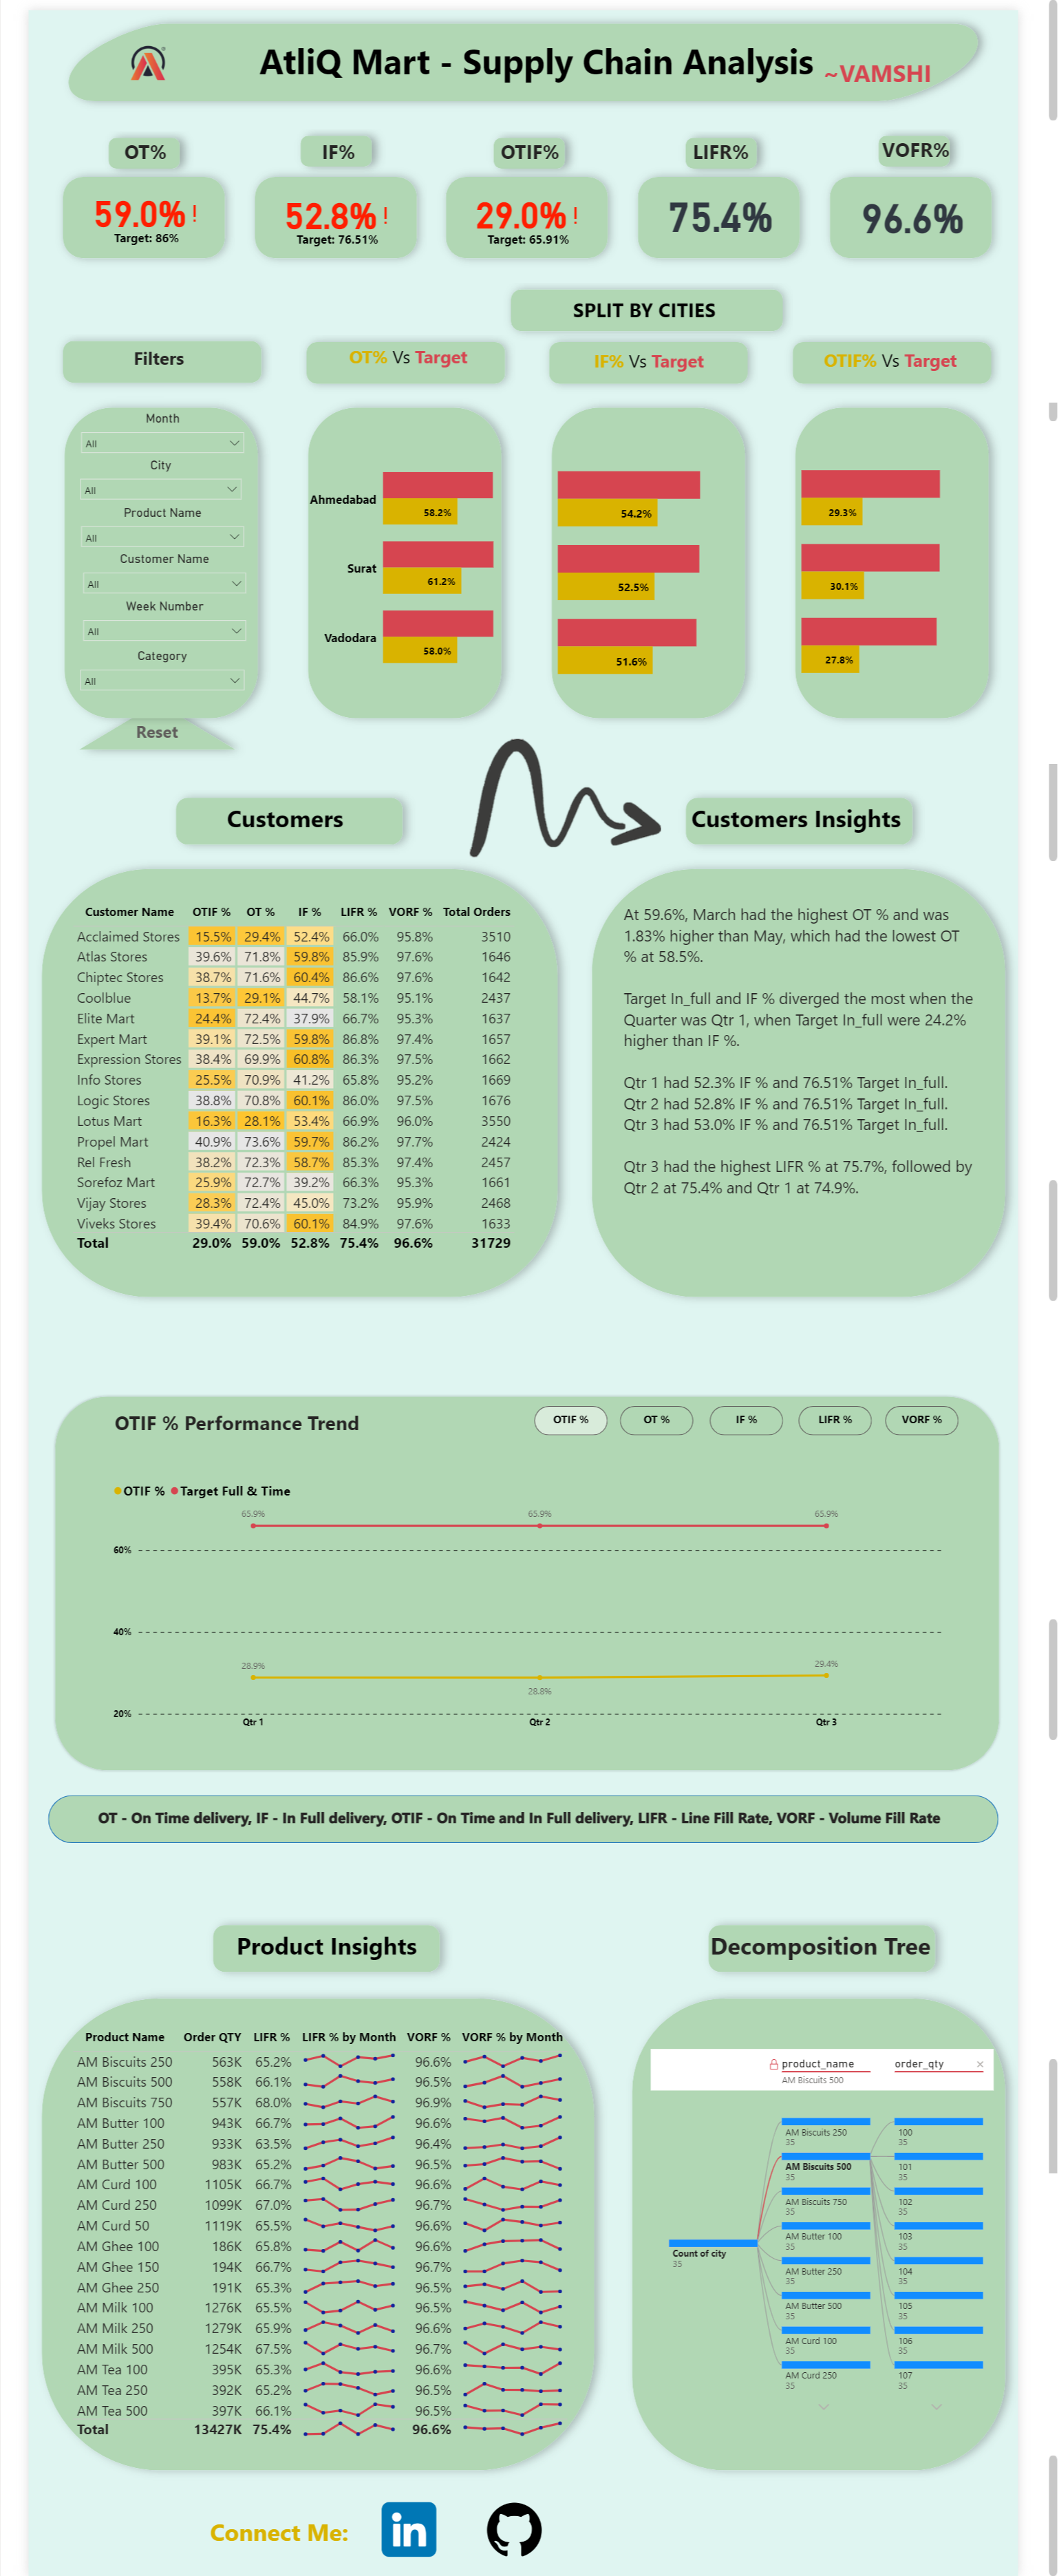

The page's visual inventory and layout, read from the dashboard file:
{"tool":"powerbi","page":{"name":"Supply Chain Dashboard","canvas":[1350,3500],"ordinal":0},"visuals":[{"type":"shape","box":[0,0,1350,141.7],"z":0,"group":"g3"},{"type":"group","id":"g1","title":"Nameshape","box":[90,151.7,1185,300.3],"z":0},{"type":"shape","box":[1140,152.3,135,80],"z":0,"group":"g1"},{"type":"shape","box":[364,438,300,86],"z":0,"group":"g2"},{"type":"textbox","box":[413.7,450.7,208.3,60],"z":0,"group":"g7"},{"type":"shape","box":[1028.4,524.5,300,460],"z":0,"group":"g5"},{"type":"slicer","title":"Month","fields":{"Values":["dim_date.date.Variation.Date Hierarchy.Month"]},"box":[62,546,242,64],"z":0,"group":"g8"},{"type":"clusteredBarChart","fields":{"Category":["dim_customers.city"],"Y":["Resource_measures.Target Full & Time","Resource_measures.OTIF %"]},"box":[1050,614,250,300],"z":0,"group":"g9"},{"type":"actionButton","box":[690,1903.3,100,40],"z":0,"group":"g4"},{"type":"lineChart","title":"OTIF % chart","fields":{"Y":["Resource_measures.OTIF %","Resource_measures.Target Full & Time"],"Category":["dim_date.mmm_yy.Variation.Date Hierarchy.Quarter","dim_date.mmm_yy.Variation.Date Hierarchy.Month"]},"box":[110,1996.7,1140,356.7],"z":0,"group":"g6"},{"type":"shape","box":[615,153.9,135,80],"z":1000,"group":"g1"},{"type":"group","id":"g2","title":"box","box":[32,436,1296,590],"z":1000},{"type":"shape","box":[696,438,300,86],"z":1000,"group":"g2"},{"type":"textbox","box":[760,456,172,50],"z":1000,"group":"g7"},{"type":"shape","box":[696.1,524.4,300,460],"z":1000,"group":"g5"},{"type":"slicer","title":"City","fields":{"Values":["dim_customers.city"]},"box":[60,610,240,64],"z":1000,"group":"g8"},{"type":"clusteredBarChart","fields":{"Category":["dim_customers.city"],"Y":["Resource_measures.Target In_full","Resource_measures.IF %"]},"box":[717.7,615,250,300],"z":1000,"group":"g9"},{"type":"shape","box":[32,1888,1296,518],"z":1000,"group":"g3"},{"type":"textbox","title":"OTIF Title","box":[112.5,1902.5,540,60],"z":1000,"group":"g6"},{"type":"actionButton","box":[806.7,1903.3,100,40],"z":1000,"group":"g4"},{"type":"group","id":"g3","title":"Group 3","box":[0,0,1350,2500],"z":2000},{"type":"shape","box":[293.8,212.5,250,140],"z":2000,"group":"g3"},{"type":"shape","box":[644,366,400,86],"z":2000,"group":"g1"},{"type":"textbox","box":[738,384,240,50],"z":2000,"group":"g7"},{"type":"shape","box":[1028,438,300,86],"z":2000,"group":"g2"},{"type":"shape","box":[363.9,524.3,300,460],"z":2000,"group":"g5"},{"type":"clusteredBarChart","fields":{"Category":["dim_customers.city"],"Y":["Resource_measures.Target On_time","Resource_measures.OT %"]},"box":[378,578.3,295,358.3],"z":2000,"group":"g9"},{"type":"slicer","title":"Product Name","fields":{"Values":["dim_products.product_name"]},"box":[62,674,242,64],"z":2000,"group":"g8"},{"type":"group","id":"g4","title":"OTIF Buttons","box":[690,1903.3,578.3,40],"z":2000,"group":"g6"},{"type":"actionButton","box":[930,1903.3,100,40],"z":2000,"group":"g4"},{"type":"shape","box":[352.5,151.7,135,80],"z":3000,"group":"g1"},{"type":"shape","box":[555.3,212.5,250,140],"z":3000,"group":"g3"},{"type":"shape","box":[32,436,300,86],"z":3000,"group":"g2"},{"type":"textbox","box":[1080,454,204,52],"z":3000,"group":"g7"},{"type":"group","id":"g5","title":"boxplotshapes","box":[31.7,524.3,1296.7,460.3],"z":3000},{"type":"shape","box":[31.7,524.6,300,460],"z":3000,"group":"g5"},{"type":"slicer","title":"Customer Name","fields":{"Values":["dim_customers.customer_name"]},"box":[64,738,242,64],"z":3000,"group":"g8"},{"type":"actionButton","box":[1168.3,1903.3,100,40],"z":3000,"group":"g4"},{"type":"shape","box":[90,155,135,80],"z":4000,"group":"g1"},{"type":"shape","box":[816.8,212.5,250,140],"z":4000,"group":"g3"},{"type":"textbox","box":[112,452,130,54],"z":4000,"group":"g7"},{"type":"slicer","title":"Week Number","fields":{"Values":["dim_date.week_no"]},"box":[64,802,242,66],"z":4000,"group":"g8"},{"type":"shape","box":[50,926,250,100],"z":4000,"group":"g2"},{"type":"actionButton","box":[1050,1903.3,100,40],"z":4000,"group":"g4"},{"type":"shape","box":[877.5,153.9,135,80],"z":5000,"group":"g1"},{"type":"shape","box":[1078.3,212.5,250,140],"z":5000,"group":"g3"},{"type":"slicer","title":"Category","fields":{"Values":["dim_products.category"]},"box":[60,870,244,66],"z":5000,"group":"g8"},{"type":"group","id":"g6","title":"OTIF% chart","box":[110,1902.5,1158.3,450.8],"z":5000},{"type":"shape","box":[32.3,212.5,250,140],"z":6000,"group":"g3"},{"type":"kpi","fields":{"Indicator":["Resource_measures.OT %"],"Goal":["Resource_measures.Target On_time"],"TrendLine":["fact_order_lines.customer_id"]},"box":[55,250.4,215,85],"z":7000,"group":"g3"},{"type":"kpi","fields":{"TrendLine":["fact_order_lines.customer_id"],"Indicator":["Resource_measures.OTIF %"],"Goal":["Resource_measures.Target Full & Time"]},"box":[576.7,250.4,215,88.3],"z":8000,"group":"g3"},{"type":"kpi","fields":{"TrendLine":["fact_order_lines.customer_id"],"Indicator":["Resource_measures.IF %"],"Goal":["Resource_measures.Target In_full"]},"box":[315,250.4,215,90],"z":9000,"group":"g3"},{"type":"group","id":"g7","title":"TextBoxes","box":[112,384,1172,126.7],"z":9000},{"type":"card","fields":{"Values":["Resource_measures.VORF %"]},"box":[1116.7,208.7,178.3,138.3],"z":10000,"group":"g3"},{"type":"group","id":"g8","title":"Filters","box":[60,546,246,390],"z":10000},{"type":"card","fields":{"Values":["Resource_measures.LIFR %"]},"box":[843.3,215.4,200,120],"z":11000,"group":"g3"},{"type":"group","id":"g9","title":"graphs","box":[378,578.3,922,358.3],"z":11000},{"type":"textbox","box":[115,168.3,88.3,55],"z":12000,"group":"g3"},{"type":"actionButton","title":"Reset","box":[126,964,100,40],"z":12000},{"type":"image","box":[118.3,41.7,90,58.3],"z":13000},{"type":"textbox","box":[386.7,168.3,71.7,53.3],"z":13000,"group":"g3"},{"type":"textbox","box":[635,168.3,98.3,53.3],"z":14000,"group":"g3"},{"type":"shape","box":[0,1153.3,740,620],"z":14000},{"type":"textbox","box":[891.7,168.3,106.7,53.3],"z":15000,"group":"g3"},{"type":"tableEx","fields":{"Values":["dim_customers.customer_name","Resource_measures.OTIF %","Resource_measures.OT %","Resource_measures.IF %","Resource_measures.LIFR %","Resource_measures.VORF %","fact_order_lines.order_id"]},"box":[55,1213.3,643.3,523.3],"z":15000},{"type":"textbox","box":[1153.3,166.7,115,48.3],"z":16000,"group":"g3"},{"type":"shape","box":[750,1153.3,600,620],"z":16000},{"type":"textbox","title":"AtliQ Mart - Supply Chain Analysis","box":[228.3,36.7,930,105],"z":17000,"group":"g3"},{"type":"textbox","box":[806.7,1213.3,488.3,501.7],"z":17000},{"type":"shape","box":[878.3,1056.7,345,100],"z":18000},{"type":"shape","box":[26.7,2435,1296.7,65],"z":18000,"group":"g3"},{"type":"textbox","box":[891.7,1075,311.7,61.7],"z":19000},{"type":"textbox","title":"OT - On Time delivery, IF - In Full delivery, OTIF - On Time and In Full delivery, LIFR - Line Fill Rate, VORF - Volume Fill Rate","box":[11.7,2451.7,1316.7,31.7],"z":19000,"group":"g3"},{"type":"shape","box":[183.3,1056.7,345,100],"z":20000},{"type":"textbox","box":[253.3,1075,193.3,58.3],"z":21000},{"type":"shape","box":[0,2695,790,680],"z":22000},{"type":"tableEx","fields":{"Values":["dim_products.product_name","Sum(fact_order_lines.order_qty)","Resource_measures.LIFR %","SparklineData(Resource_measures.LIFR %_[dim_date.date.Variation.Date Hierarchy.Month])","Resource_measures.VORF %","SparklineData(Resource_measures.VORF %_[dim_date.date.Variation.Date Hierarchy.Month])"]},"box":[55,2748.3,700,626.7],"z":23000},{"type":"shape","box":[805,2695,545,680],"z":24000},{"type":"decompositionTreeVisual","fields":{"ExplainBy":["dim_products.product_name","fact_order_lines.order_qty"],"Analyze":["CountNonNull(dim_customers.city)"]},"box":[843.3,2776.7,478,518.3],"z":25000},{"type":"shape","box":[233.3,2595,345,100],"z":26000},{"type":"textbox","box":[278.3,2613.3,270,61.7],"z":27000},{"type":"shape","box":[910,2595,345,100],"z":28000},{"type":"textbox","box":[925,2613.3,343.3,56.7],"z":29000},{"type":"image","box":[555,988.3,355,171.7],"z":30000},{"type":"shape","box":[192.7,3389.1,278.2,100],"z":30500},{"type":"textbox","box":[241.8,3412.7,245.5,67.3],"z":31000},{"type":"image","box":[514.5,3394.5,118.2,85.5],"z":32000},{"type":"image","box":[593.3,3395,140,85],"z":33000},{"type":"textbox","box":[1078.3,58.3,250,61.7],"z":34000}]}

Visuals, with their boxes on the page's 1350x3500 design canvas (x1, y1, x2, y2). These are canvas units, not pixel positions in the 1059x2576 screenshot, which may show the page scaled, cropped or inside an application window:
shape: <bbox>0, 0, 1350, 142</bbox>
"Nameshape" group: <bbox>90, 152, 1275, 452</bbox>
shape: <bbox>1140, 152, 1275, 232</bbox>
shape: <bbox>364, 438, 664, 524</bbox>
textbox: <bbox>414, 451, 622, 511</bbox>
shape: <bbox>1028, 524, 1328, 984</bbox>
"Month" slicer: <bbox>62, 546, 304, 610</bbox>
clusteredBarChart - dim_customers.city x Resource_measures.Target Full & Time: <bbox>1050, 614, 1300, 914</bbox>
actionButton: <bbox>690, 1903, 790, 1943</bbox>
"OTIF % chart" lineChart: <bbox>110, 1997, 1250, 2353</bbox>
shape: <bbox>615, 154, 750, 234</bbox>
"box" group: <bbox>32, 436, 1328, 1026</bbox>
shape: <bbox>696, 438, 996, 524</bbox>
textbox: <bbox>760, 456, 932, 506</bbox>
shape: <bbox>696, 524, 996, 984</bbox>
"City" slicer: <bbox>60, 610, 300, 674</bbox>
clusteredBarChart - dim_customers.city x Resource_measures.Target In_full: <bbox>718, 615, 968, 915</bbox>
shape: <bbox>32, 1888, 1328, 2406</bbox>
"OTIF Title" textbox: <bbox>112, 1902, 652, 1962</bbox>
actionButton: <bbox>807, 1903, 907, 1943</bbox>
"Group 3" group: <bbox>0, 0, 1350, 2500</bbox>
shape: <bbox>294, 212, 544, 352</bbox>
shape: <bbox>644, 366, 1044, 452</bbox>
textbox: <bbox>738, 384, 978, 434</bbox>
shape: <bbox>1028, 438, 1328, 524</bbox>
shape: <bbox>364, 524, 664, 984</bbox>
clusteredBarChart - dim_customers.city x Resource_measures.Target On_time: <bbox>378, 578, 673, 937</bbox>
"Product Name" slicer: <bbox>62, 674, 304, 738</bbox>
"OTIF Buttons" group: <bbox>690, 1903, 1268, 1943</bbox>
actionButton: <bbox>930, 1903, 1030, 1943</bbox>
shape: <bbox>352, 152, 488, 232</bbox>
shape: <bbox>555, 212, 805, 352</bbox>
shape: <bbox>32, 436, 332, 522</bbox>
textbox: <bbox>1080, 454, 1284, 506</bbox>
"boxplotshapes" group: <bbox>32, 524, 1328, 985</bbox>
shape: <bbox>32, 525, 332, 985</bbox>
"Customer Name" slicer: <bbox>64, 738, 306, 802</bbox>
actionButton: <bbox>1168, 1903, 1268, 1943</bbox>
shape: <bbox>90, 155, 225, 235</bbox>
shape: <bbox>817, 212, 1067, 352</bbox>
textbox: <bbox>112, 452, 242, 506</bbox>
"Week Number" slicer: <bbox>64, 802, 306, 868</bbox>
shape: <bbox>50, 926, 300, 1026</bbox>
actionButton: <bbox>1050, 1903, 1150, 1943</bbox>
shape: <bbox>878, 154, 1012, 234</bbox>
shape: <bbox>1078, 212, 1328, 352</bbox>
"Category" slicer: <bbox>60, 870, 304, 936</bbox>
"OTIF% chart" group: <bbox>110, 1902, 1268, 2353</bbox>
shape: <bbox>32, 212, 282, 352</bbox>
kpi - Resource_measures.OT % x Resource_measures.Target On_time: <bbox>55, 250, 270, 335</bbox>
kpi - fact_order_lines.customer_id x Resource_measures.OTIF %: <bbox>577, 250, 792, 339</bbox>
kpi - fact_order_lines.customer_id x Resource_measures.IF %: <bbox>315, 250, 530, 340</bbox>
"TextBoxes" group: <bbox>112, 384, 1284, 511</bbox>
card - Resource_measures.VORF %: <bbox>1117, 209, 1295, 347</bbox>
"Filters" group: <bbox>60, 546, 306, 936</bbox>
card - Resource_measures.LIFR %: <bbox>843, 215, 1043, 335</bbox>
"graphs" group: <bbox>378, 578, 1300, 937</bbox>
textbox: <bbox>115, 168, 203, 223</bbox>
"Reset" actionButton: <bbox>126, 964, 226, 1004</bbox>
image: <bbox>118, 42, 208, 100</bbox>
textbox: <bbox>387, 168, 458, 222</bbox>
textbox: <bbox>635, 168, 733, 222</bbox>
shape: <bbox>0, 1153, 740, 1773</bbox>
textbox: <bbox>892, 168, 998, 222</bbox>
tableEx - dim_customers.customer_name x Resource_measures.OTIF %: <bbox>55, 1213, 698, 1737</bbox>
textbox: <bbox>1153, 167, 1268, 215</bbox>
shape: <bbox>750, 1153, 1350, 1773</bbox>
"AtliQ Mart - Supply Chain Analysis" textbox: <bbox>228, 37, 1158, 142</bbox>
textbox: <bbox>807, 1213, 1295, 1715</bbox>
shape: <bbox>878, 1057, 1223, 1157</bbox>
shape: <bbox>27, 2435, 1323, 2500</bbox>
textbox: <bbox>892, 1075, 1203, 1137</bbox>
"OT - On Time delivery, IF - In Full delivery, OTIF - On Time and In Full delivery, LIFR - Line Fill Rate, VORF - Volume Fill Rate" textbox: <bbox>12, 2452, 1328, 2483</bbox>
shape: <bbox>183, 1057, 528, 1157</bbox>
textbox: <bbox>253, 1075, 447, 1133</bbox>
shape: <bbox>0, 2695, 790, 3375</bbox>
tableEx - dim_products.product_name x Sum(fact_order_lines.order_qty): <bbox>55, 2748, 755, 3375</bbox>
shape: <bbox>805, 2695, 1350, 3375</bbox>
decompositionTreeVisual - dim_products.product_name x fact_order_lines.order_qty: <bbox>843, 2777, 1321, 3295</bbox>
shape: <bbox>233, 2595, 578, 2695</bbox>
textbox: <bbox>278, 2613, 548, 2675</bbox>
shape: <bbox>910, 2595, 1255, 2695</bbox>
textbox: <bbox>925, 2613, 1268, 2670</bbox>
image: <bbox>555, 988, 910, 1160</bbox>
shape: <bbox>193, 3389, 471, 3489</bbox>
textbox: <bbox>242, 3413, 487, 3480</bbox>
image: <bbox>514, 3394, 633, 3480</bbox>
image: <bbox>593, 3395, 733, 3480</bbox>
textbox: <bbox>1078, 58, 1328, 120</bbox>
